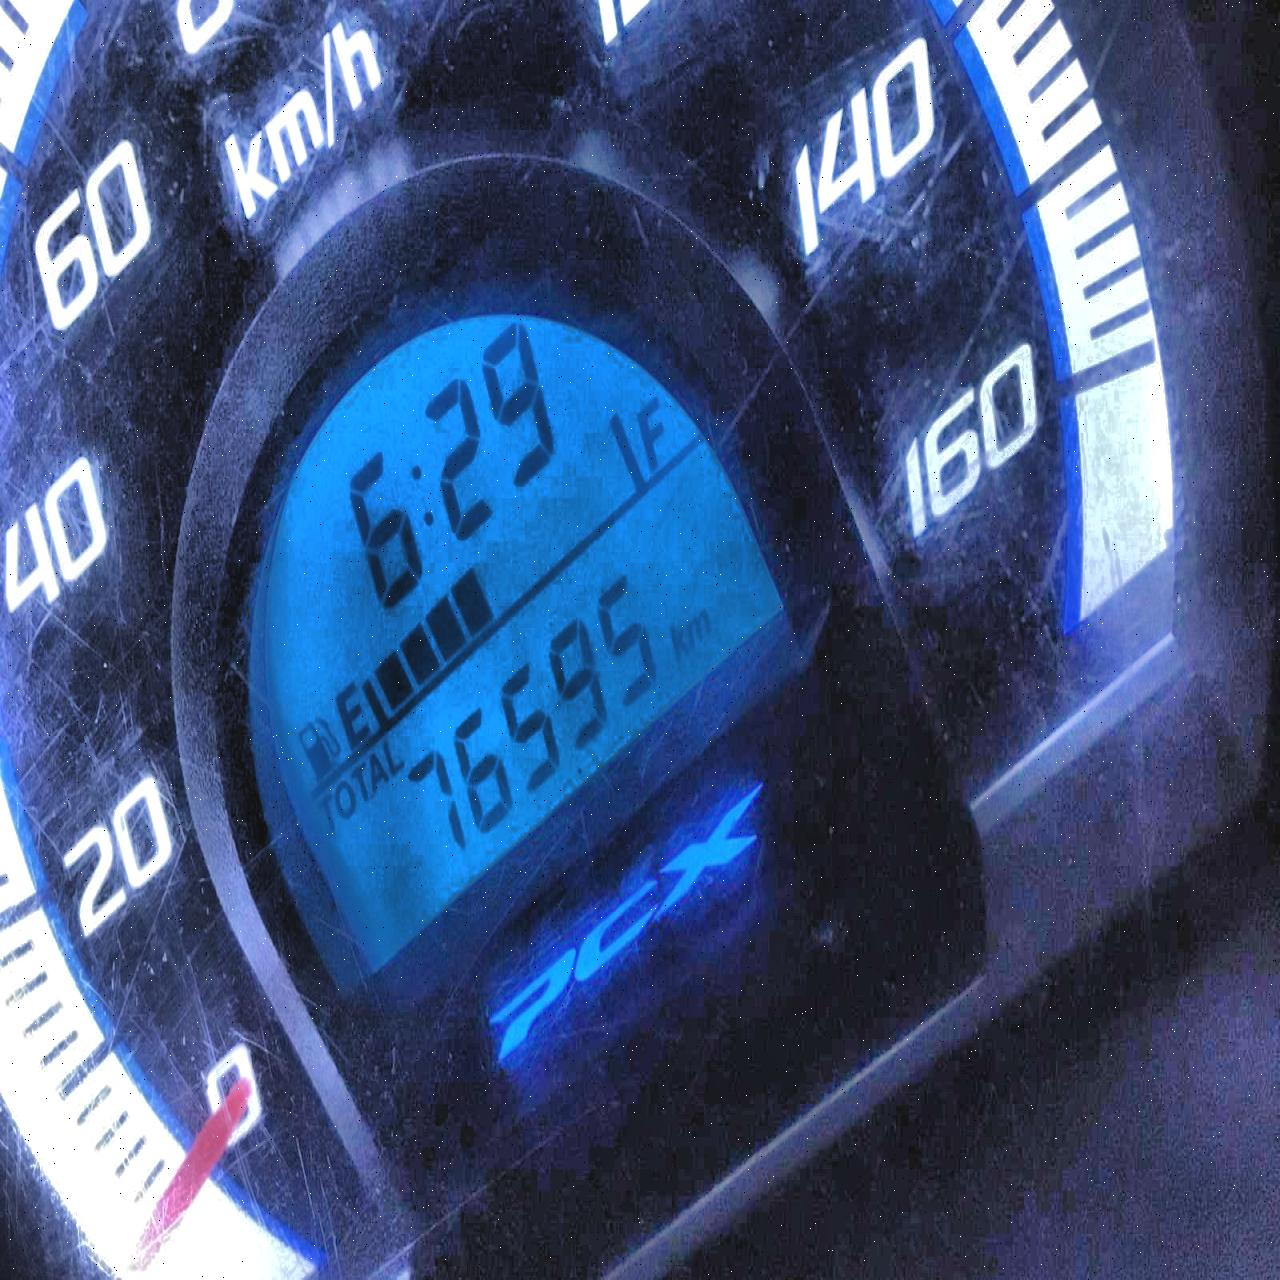2: (425, 374, 493, 545)
5: (497, 658, 564, 791), (595, 572, 662, 704)
6: (346, 443, 422, 612), (451, 703, 513, 835)
7: (408, 747, 467, 856)
9: (479, 314, 561, 493), (547, 613, 611, 751)
X: (634, 392, 672, 474), (333, 678, 374, 745), (406, 455, 436, 535), (687, 605, 713, 648), (380, 738, 404, 778), (349, 758, 372, 802), (668, 620, 689, 665), (334, 781, 356, 818), (368, 753, 387, 795), (316, 794, 336, 832)
odometer: (252, 292, 792, 968)
